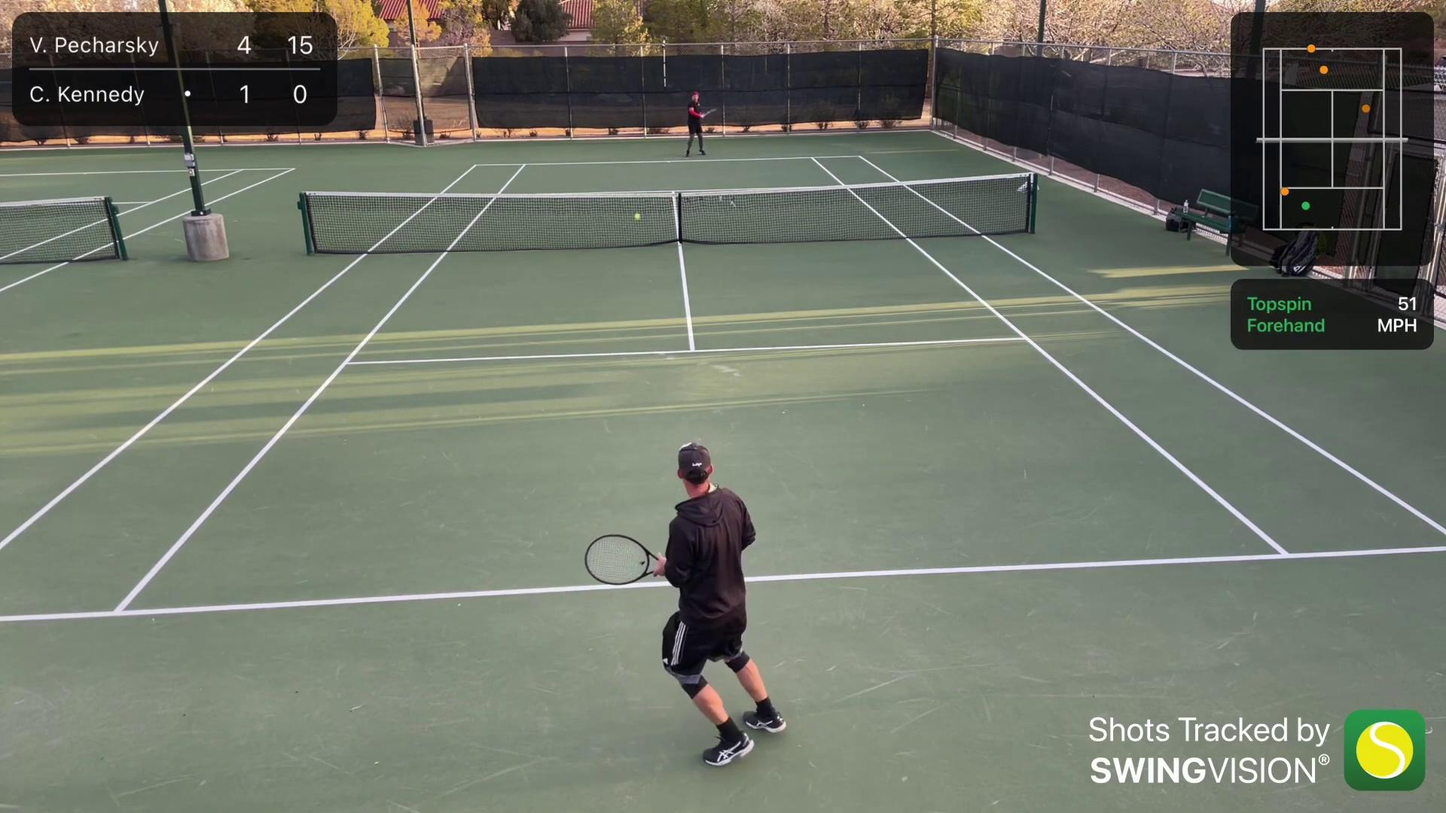ball: (634, 211, 642, 222)
